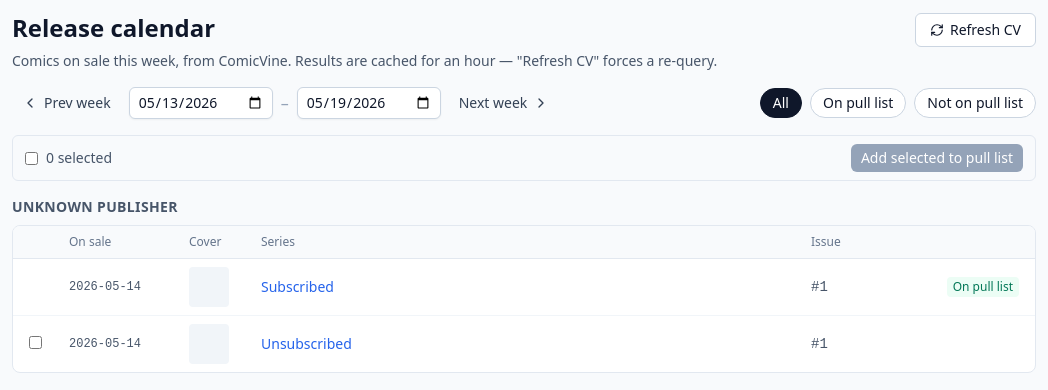
Scenario: release calendar page › filters to on-pull-list rows
Click the tab "On pull list" at (858, 103), box [810,88,906,118]
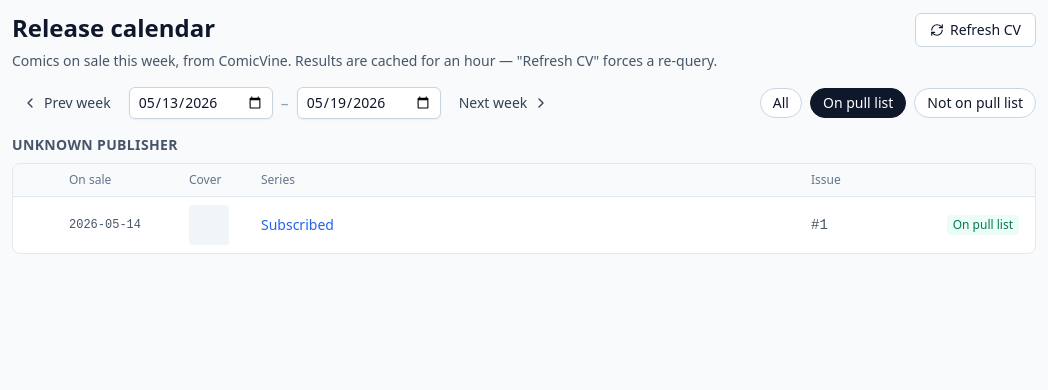
Expected: the link "Subscribed" is shown, [261,215,334,234]
Expected: the link "Unsubscribed" is gone
